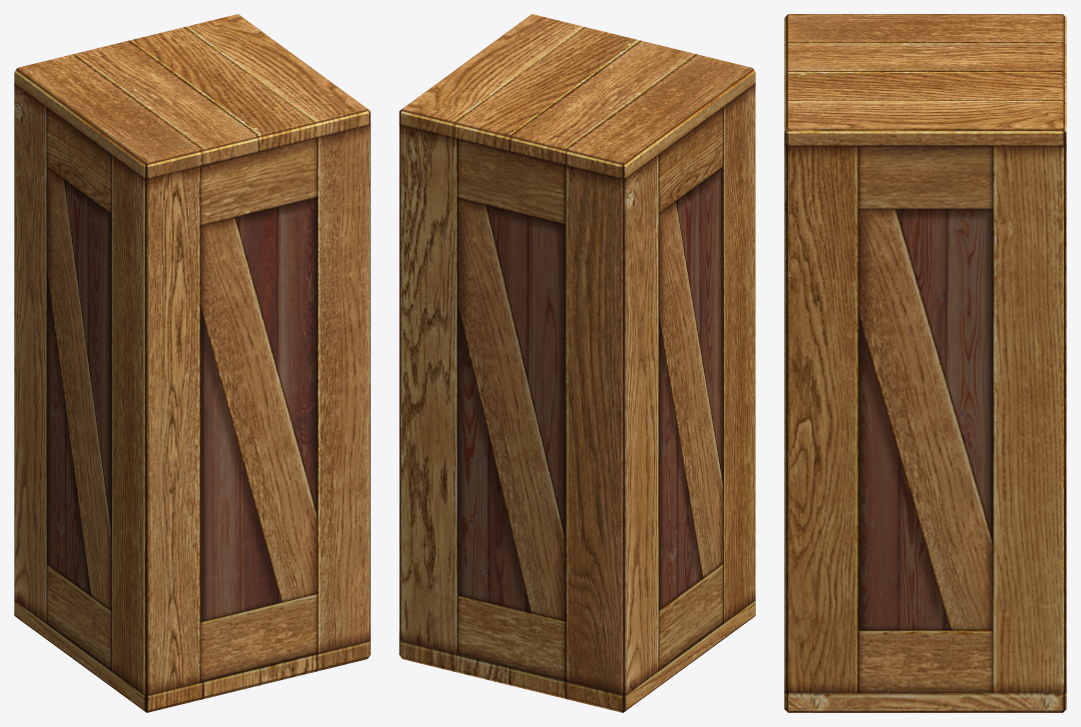
File: crate03.obj
The picture shows the model from 3 angles, left to right: view 1: azimuth 30°, elevation 25°; view 2: azimuth 150°, elevation 25°; view 3: azimuth 270°, elevation 25°; orthographic projection. The views are drawn at different scales.
Visible parts, largest first — view 1: Crate03; view 2: Crate03; view 3: Crate03.
Boxes of the visible parts, x1,y1,x2,y2 form: Crate03: [14, 14, 370, 712]; Crate03: [399, 14, 755, 712]; Crate03: [784, 14, 1066, 712].
Size of the model in its own units: 0.345 by 0.8 by 0.35.
